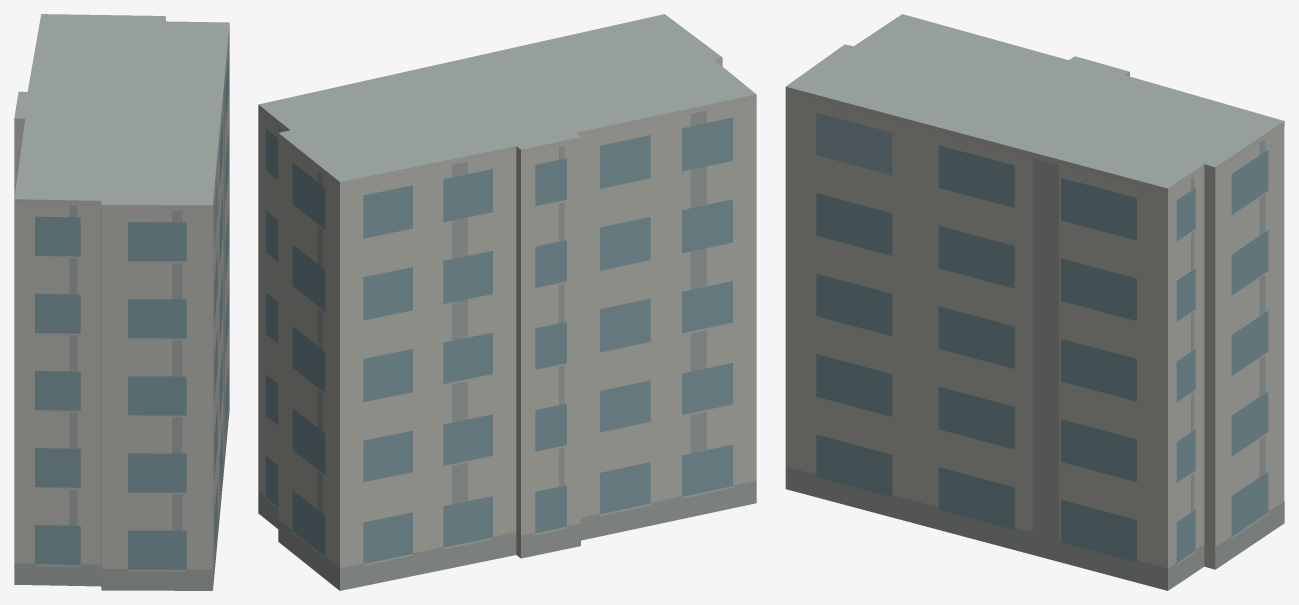
Rendered from survey-upis-32725882.glb.
The picture shows the model from 3 angles, left to right: view 1: azimuth 30°, elevation 25°; view 2: azimuth 150°, elevation 25°; view 3: azimuth 270°, elevation 25°; orthographic projection. The views are drawn at different scales.
Visible parts, largest first — view 1: survey-upis-32725882.tmp; view 2: survey-upis-32725882.tmp; view 3: survey-upis-32725882.tmp.
Part boxes in pixels (x1,y1,x2,y2): survey-upis-32725882.tmp: [14, 14, 229, 590]; survey-upis-32725882.tmp: [258, 14, 756, 590]; survey-upis-32725882.tmp: [785, 14, 1284, 590].
Size of the model in its own units: 16.19 by 17.4 by 19.56.
